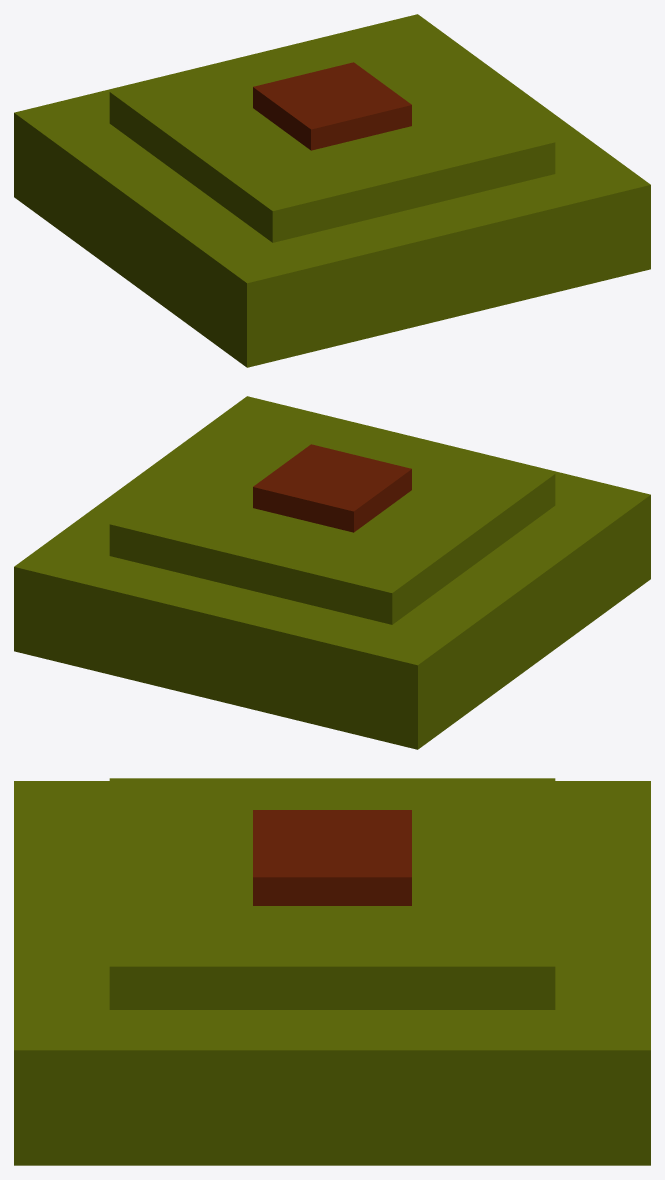
Rendered from landmine.fbx.
3 views of the same model, one above another, from view 1: azimuth 30°, elevation 25°; view 2: azimuth 150°, elevation 25°; view 3: azimuth 270°, elevation 25° (orthographic). The views are drawn at different scales.
Visible parts, largest first — view 1: landmine_base, landmine_button; view 2: landmine_base, landmine_button; view 3: landmine_base, landmine_button.
Boxes of the visible parts, box(x1,y1,x2,y2) form: landmine_base: box(14, 14, 650, 367); landmine_button: box(253, 62, 411, 150); landmine_base: box(14, 396, 650, 749); landmine_button: box(253, 444, 411, 532); landmine_base: box(14, 778, 650, 1165); landmine_button: box(253, 810, 411, 905).
Bounding box in the file's own units: 80 × 26 × 80.
